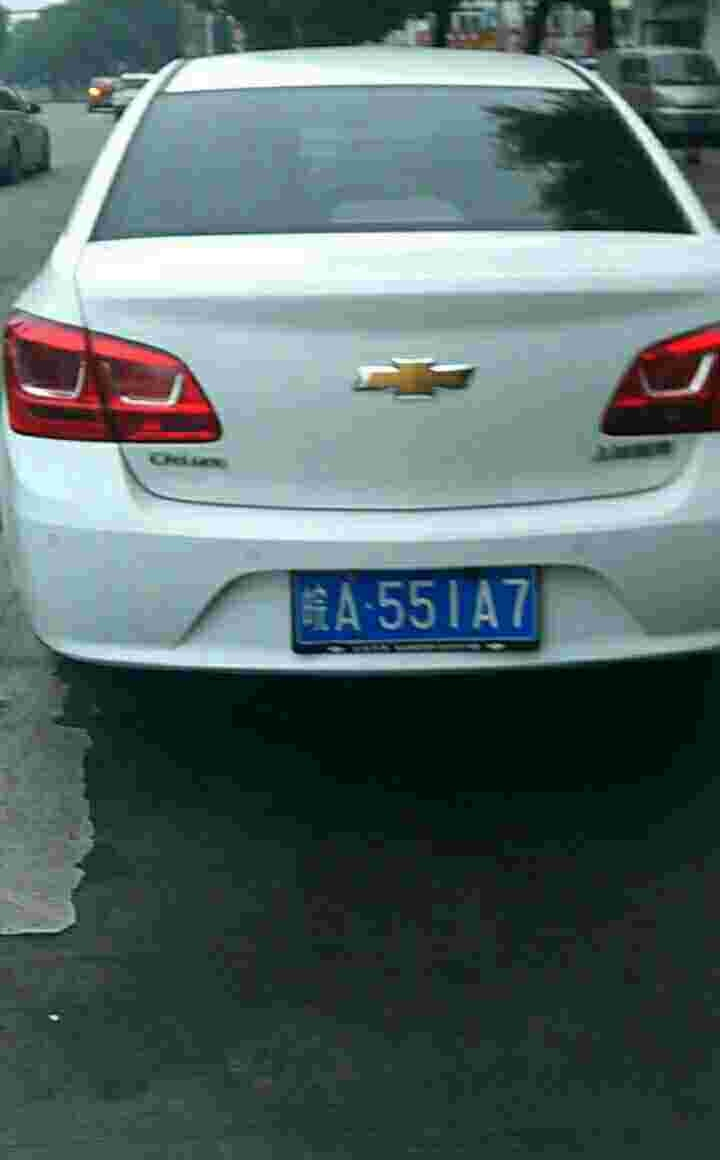plate: (296, 562, 544, 647)
